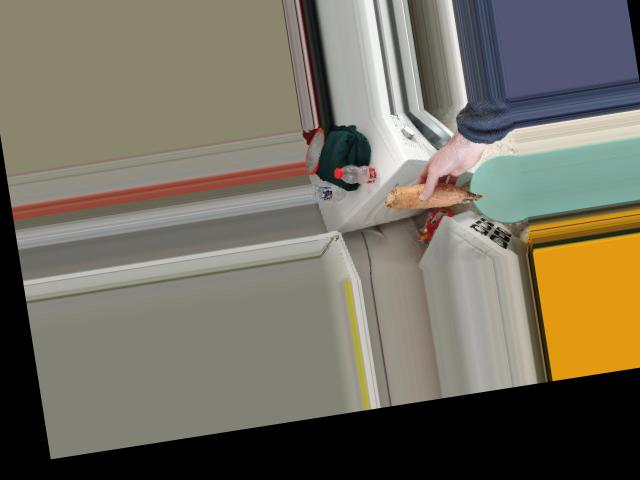sweet_potato: (377, 167, 485, 222)
